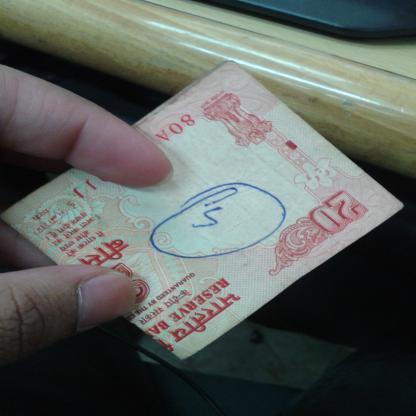Old20Front: (46, 70, 370, 350)
